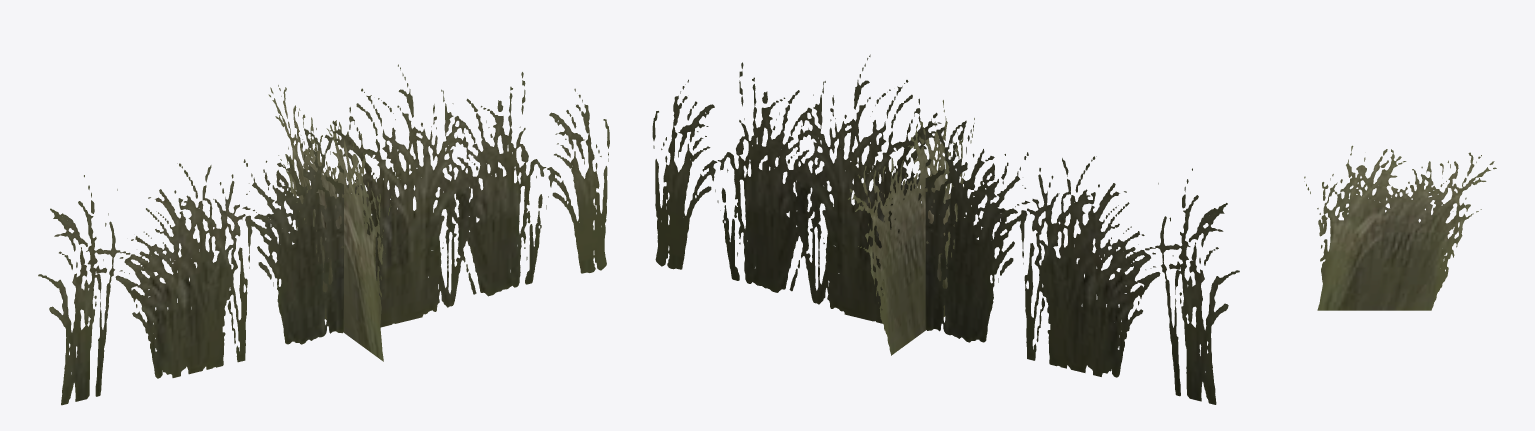
File: Background_Tree_Atlas_008_alt.glb
3 renders of one model, left to right at view 1: azimuth 30°, elevation 25°; view 2: azimuth 150°, elevation 25°; view 3: azimuth 270°, elevation 25°, orthographic. The views are drawn at different scales.
Visible parts, largest first — view 1: Background_Tree_Atlas.008; view 2: Background_Tree_Atlas.008; view 3: Background_Tree_Atlas.008.
Part boxes in pixels (x1,y1,x2,y2): Background_Tree_Atlas.008: [38, 64, 609, 405]; Background_Tree_Atlas.008: [652, 54, 1239, 404]; Background_Tree_Atlas.008: [1304, 145, 1496, 310].
Size of the model in its own units: 522 by 221 by 220.
Materials: 1 (1 with a texture image).
